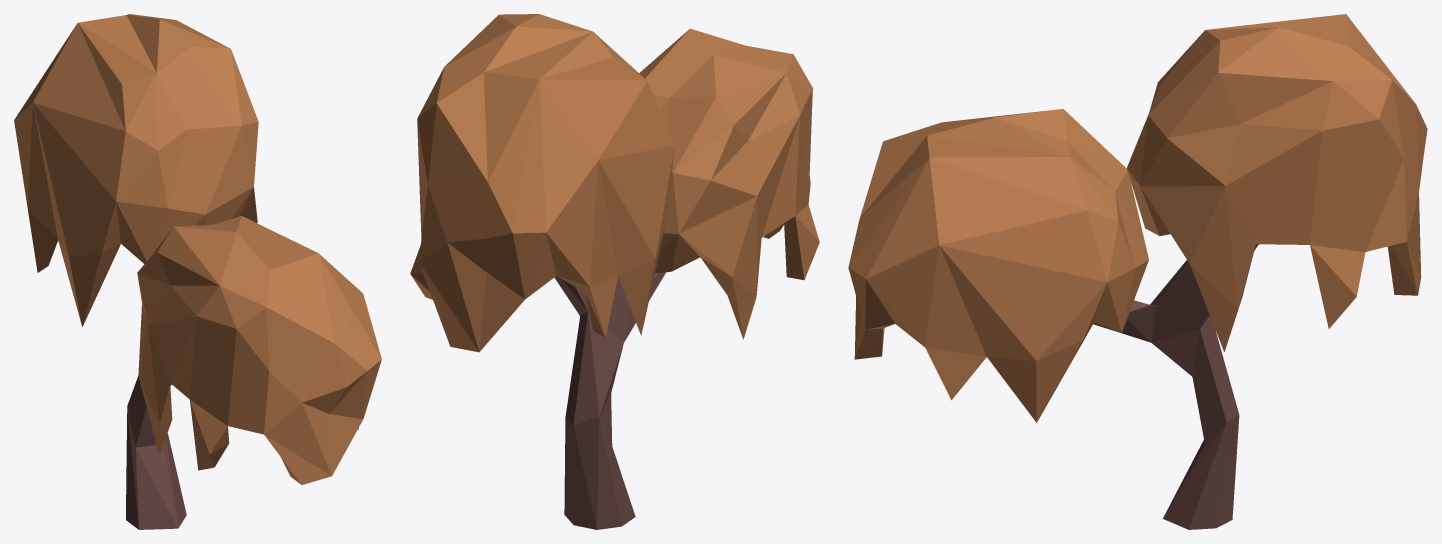
Rendered from Willow_Autumn_5.lod2.glb.
The picture shows the model from 3 angles, left to right: view 1: azimuth 30°, elevation 25°; view 2: azimuth 150°, elevation 25°; view 3: azimuth 270°, elevation 25°; orthographic projection. The views are drawn at different scales.
Parts seen in each view (by area): view 1: Willow_Autumn_5; view 2: Willow_Autumn_5; view 3: Willow_Autumn_5.
Part boxes in pixels (x1=…): Willow_Autumn_5: x1=14, y1=14, x2=381, y2=529; Willow_Autumn_5: x1=410, y1=14, x2=819, y2=529; Willow_Autumn_5: x1=848, y1=14, x2=1427, y2=529.
Size of the model in its own units: 0.9784 by 2.41 by 2.48.
